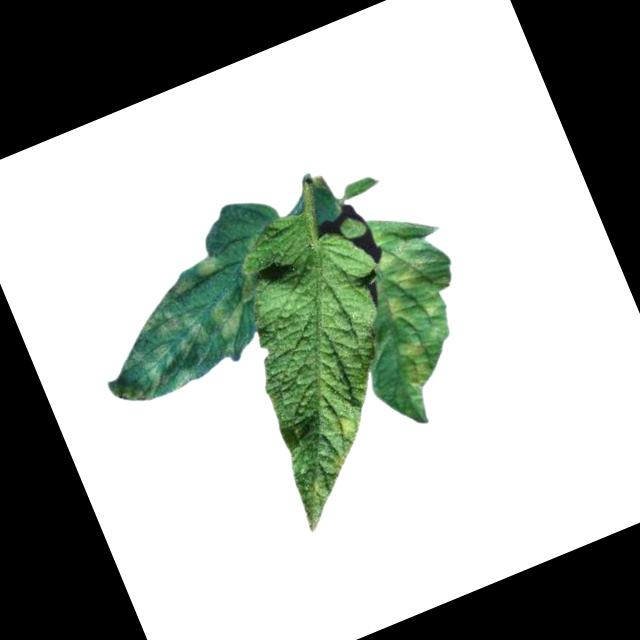Leaf_Mold: (76, 241, 285, 417), (358, 236, 474, 397), (331, 409, 363, 440)
